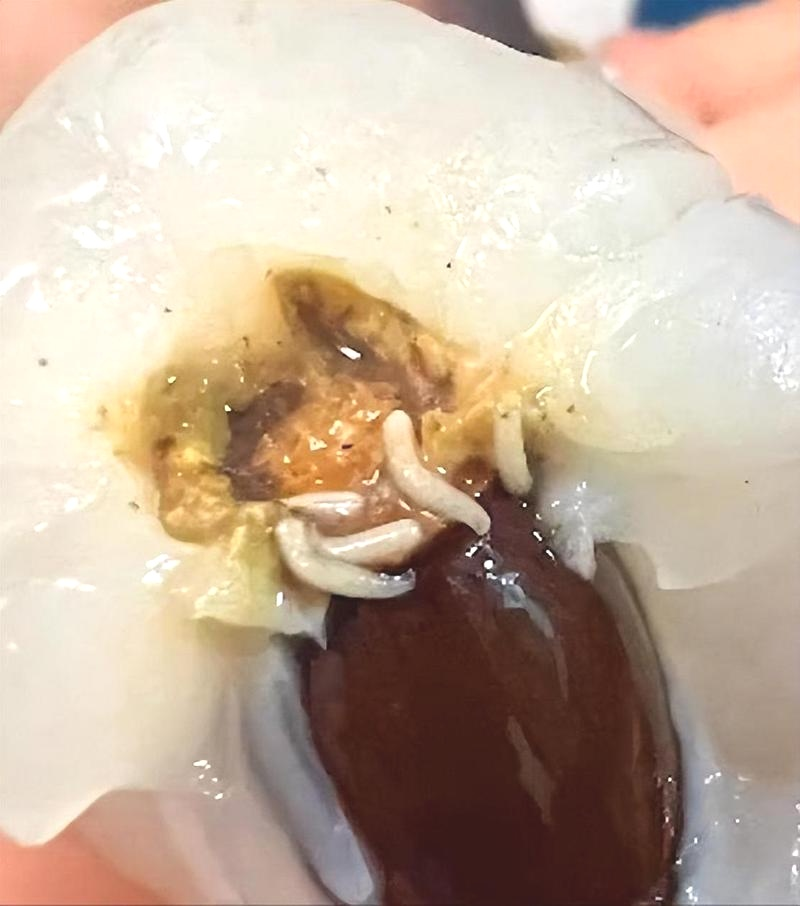Borer: (272, 371, 538, 611)
